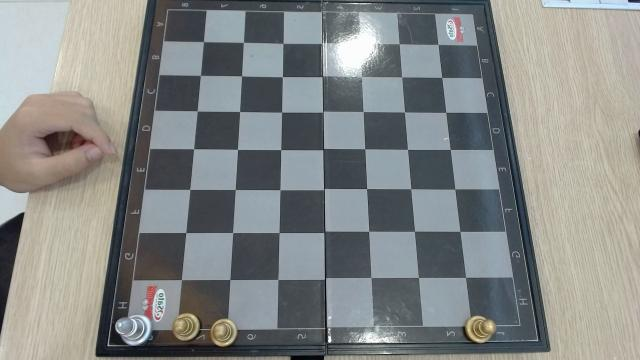black_pawn: (463, 315, 498, 344), (171, 313, 201, 342), (210, 318, 238, 347)
white_bishop: (114, 314, 153, 347)
